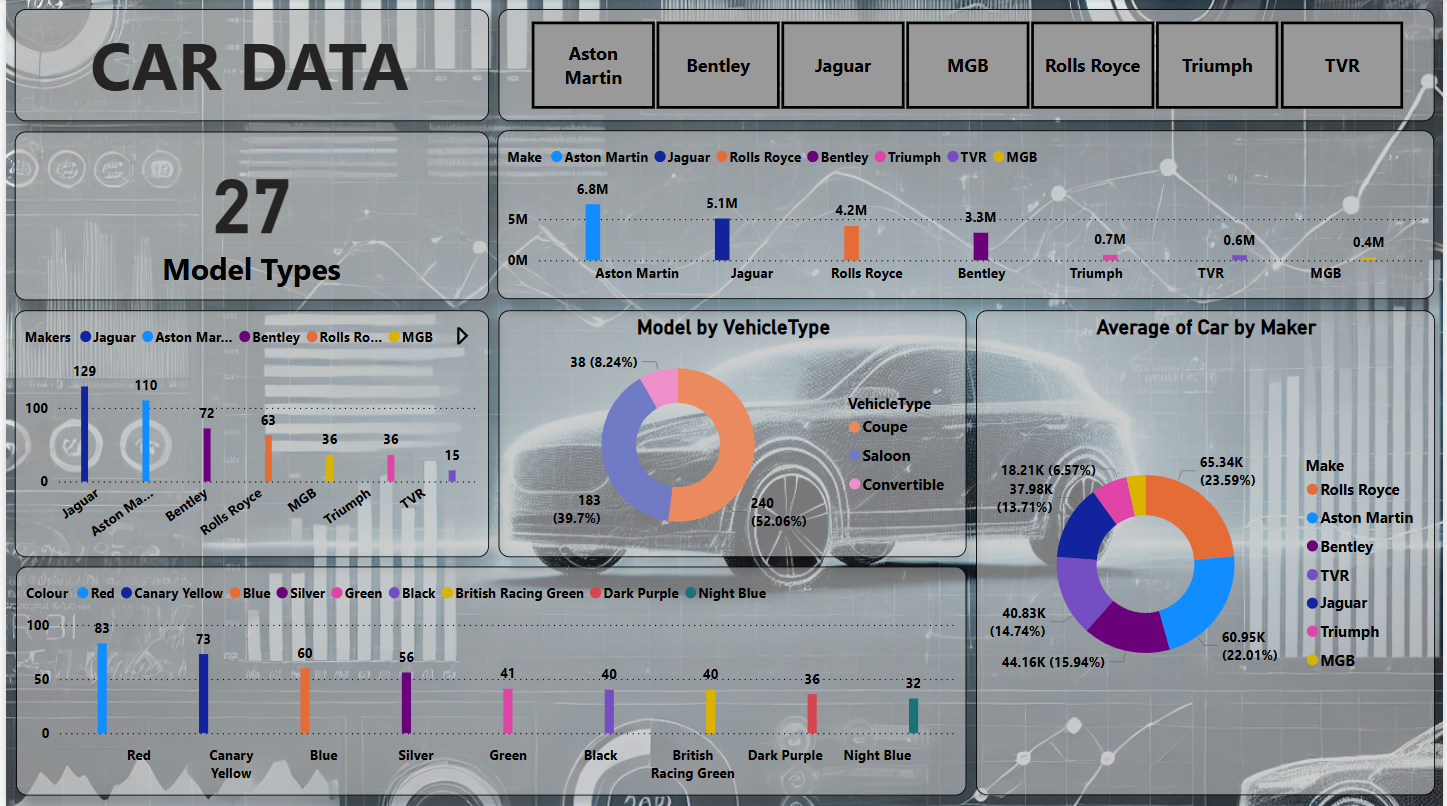

What the dashboard file says about the page in this screenshot:
{"tool":"powerbi","page":{"name":"Page 1","canvas":[1280,720],"ordinal":0},"visuals":[{"type":"textbox","box":[8.1,9.3,422.1,100],"z":0},{"type":"slicer","fields":{"Values":["Car data.Make"]},"box":[438.6,8.9,833.8,100.2],"z":1000},{"type":"card","fields":{"Values":["Count(Car data.Model)"]},"box":[8.1,117.4,422.1,150],"z":2000},{"type":"clusteredColumnChart","fields":{"Category":["Car data.Make"],"Y":["CountNonNull(Car data.Model)"],"Series":["Car data.Make"]},"box":[8.1,276.7,422.1,219.8],"z":3000},{"type":"clusteredColumnChart","fields":{"Category":["Car data.Colour"],"Y":["CountNonNull(Car data.Make)"],"Series":["Car data.Colour"]},"box":[8.6,505.5,846.6,203.7],"z":4000},{"type":"donutChart","title":"Model by VehicleType ","fields":{"Y":["CountNonNull(Car data.Model)"],"Series":["Car data.VehicleType"],"Category":["Car data.VehicleType"]},"box":[438,277.3,417.2,219.6],"z":5000},{"type":"clusteredColumnChart","fields":{"Category":["Car data.Make"],"Y":["Car data.Maintainance"],"Series":["Car data.Make"]},"box":[438,117,834,150],"z":6000},{"type":"pieChart","title":"Average of Car by Maker","fields":{"Category":["Car data.Make"],"Y":["Avg(Car data.CostPrice)"]},"box":[863.8,277.3,408.6,431.9],"z":7000}]}

Visuals, with their boxes in screenshot pixels (x1, y1, x2, y2), scaled from the page's 1280x720 canvas onto the 1447x806 screenshot:
textbox: detection(9, 10, 486, 122)
slicer - Car data.Make: detection(496, 10, 1438, 122)
card - Count(Car data.Model): detection(9, 131, 486, 299)
clusteredColumnChart - Car data.Make x CountNonNull(Car data.Model): detection(9, 310, 486, 556)
clusteredColumnChart - Car data.Colour x CountNonNull(Car data.Make): detection(10, 566, 967, 794)
"Model by VehicleType " donutChart: detection(495, 310, 967, 556)
clusteredColumnChart - Car data.Make x Car data.Maintainance: detection(495, 131, 1438, 299)
"Average of Car by Maker" pieChart: detection(976, 310, 1438, 794)
